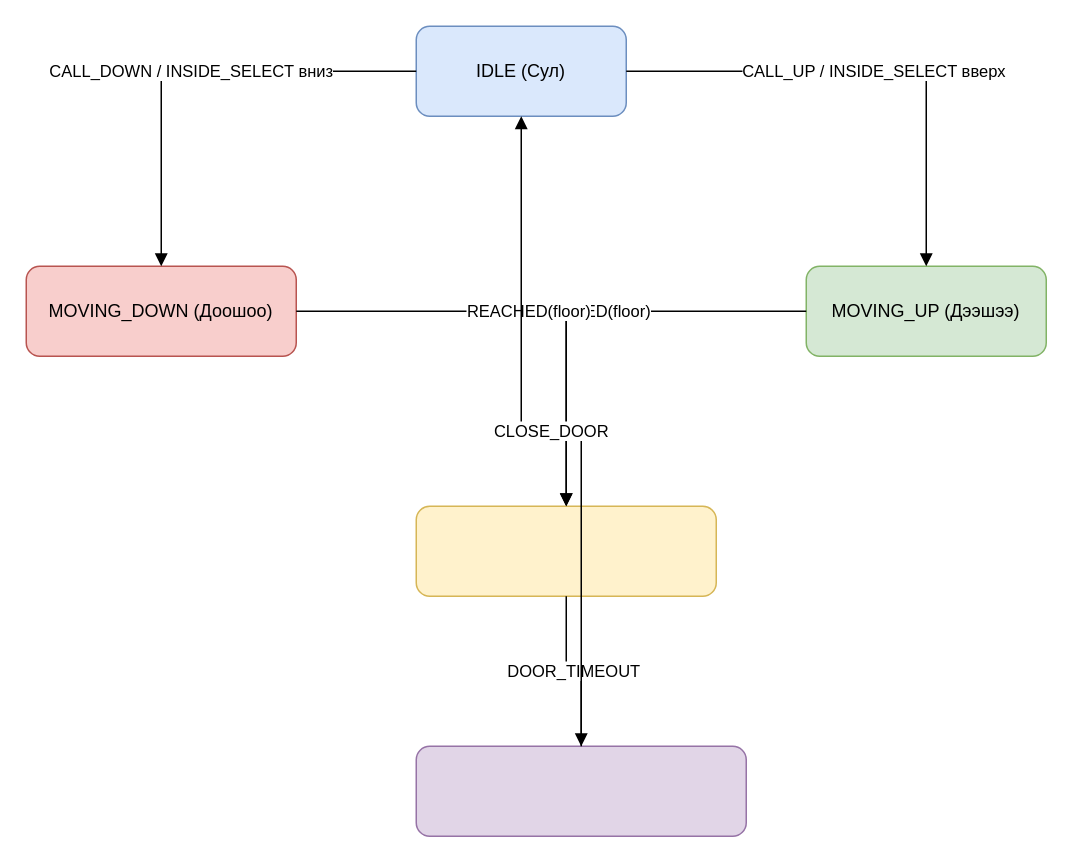
Some shapes in this 1073 by 863 pixel diagram are drawn without their labels. Each missing label, with the centre of its shape:
"DOOR_CLOSING (Хаалга хаагдаж буй)" goes at (x=580, y=790).
"DOOR_OPEN (Хаалга нээлттэй)" goes at (x=565, y=550).
